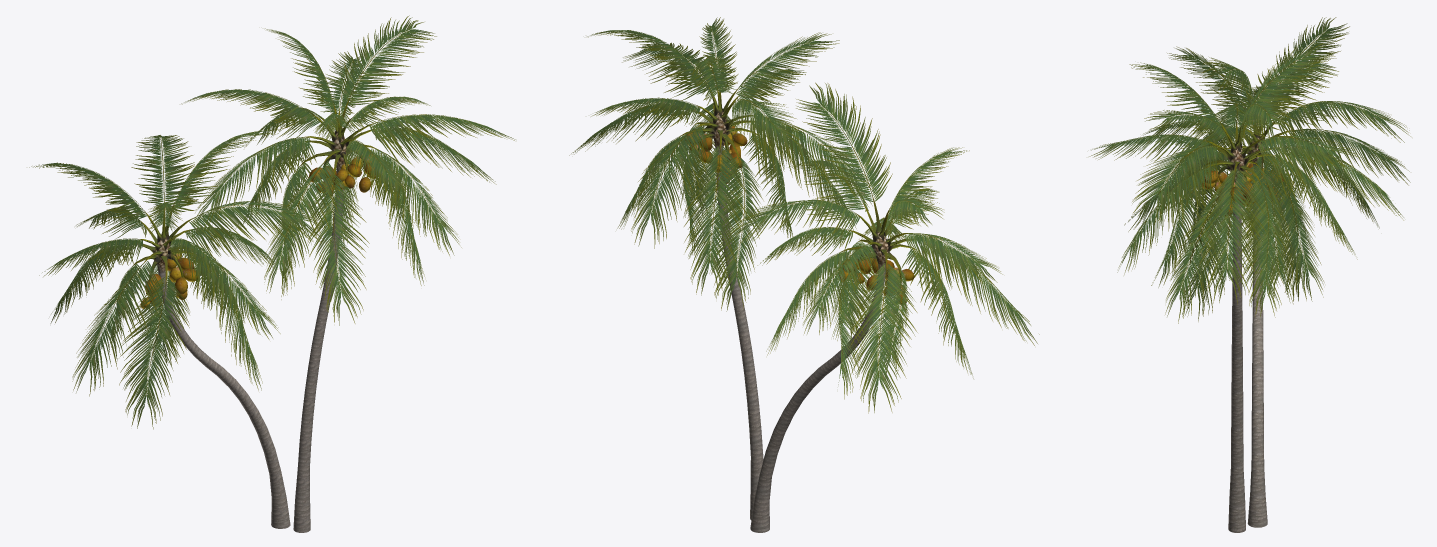
The model's file is palm.glb.
3 renders of one model, left to right at view 1: azimuth 30°, elevation 25°; view 2: azimuth 150°, elevation 25°; view 3: azimuth 270°, elevation 25°, orthographic. The views are drawn at different scales.
Parts seen in each view (by area): view 1: Tree_2, Tree_0, Tree_3, Tree_4; view 2: Tree_2, Tree_0, Tree_3, Tree_4, Tree_1; view 3: Tree_2, Tree_0, Tree_3, Tree_4.
Part boxes in pixels (left/top/right/bottom): Tree_2: left=29, top=15, right=515, bottom=429; Tree_0: left=158, top=170, right=343, bottom=532; Tree_3: left=132, top=98, right=378, bottom=295; Tree_4: left=140, top=154, right=375, bottom=308; Tree_2: left=569, top=17, right=1039, bottom=413; Tree_0: left=716, top=152, right=885, bottom=532; Tree_3: left=679, top=82, right=916, bottom=291; Tree_4: left=685, top=126, right=914, bottom=305; Tree_1: left=712, top=112, right=888, bottom=270; Tree_2: left=1089, top=17, right=1410, bottom=323; Tree_0: left=1228, top=201, right=1267, bottom=532; Tree_3: left=1204, top=117, right=1296, bottom=202; Tree_4: left=1202, top=162, right=1283, bottom=217.
Size of the model in its own units: 12 by 11.98 by 7.67.
Materials: 5 (5 with a texture image).
